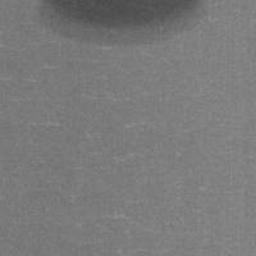Oil spot: (33, 0, 211, 47)
